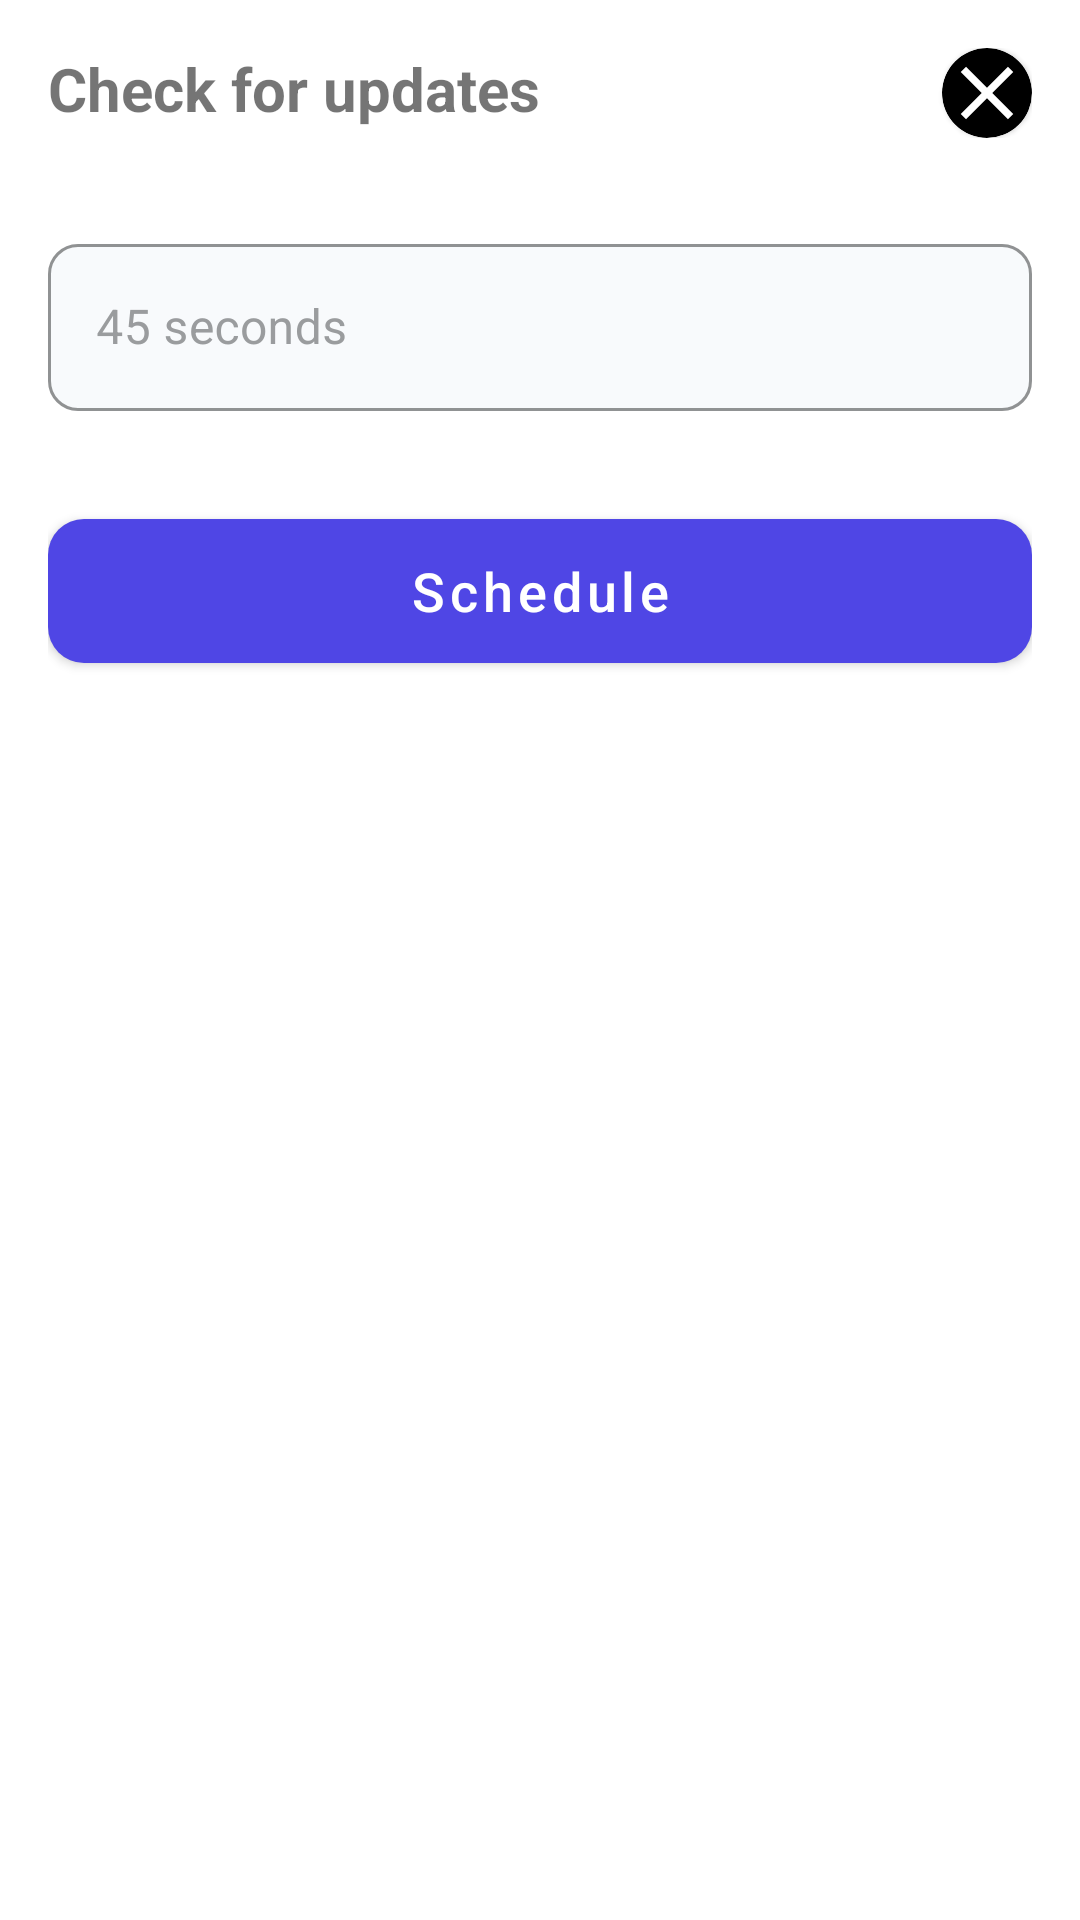

Screen size 1080×1920. Icon name, then its box in pixels as bbox(x1, y1, x2, y2):
close: bbox(942, 48, 1032, 138)
